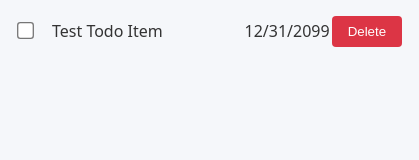
Scenario: TodoItem › shows error if updateTodo fails on status change
Click the checkbox: x=25, y=30 [16,22,33,39]
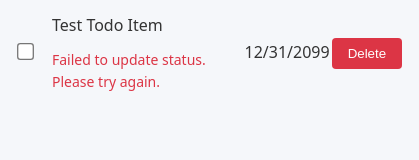
Now the text "Failed to update status. Please try again." is shown, box [52,50,206,91]
